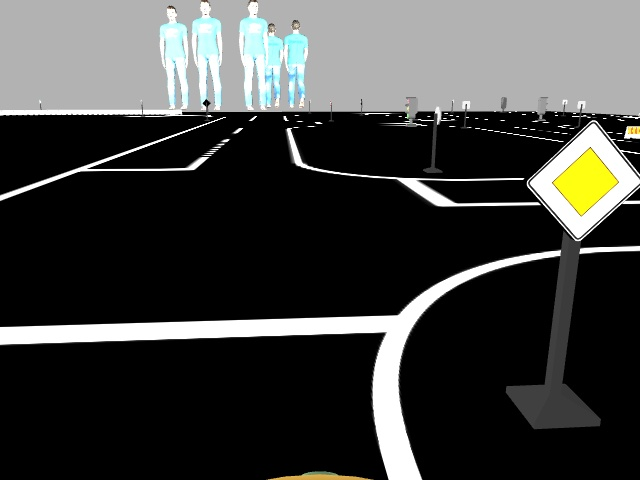Priority: (524, 120, 637, 241)
